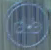bike lane: (5, 5, 44, 48)
